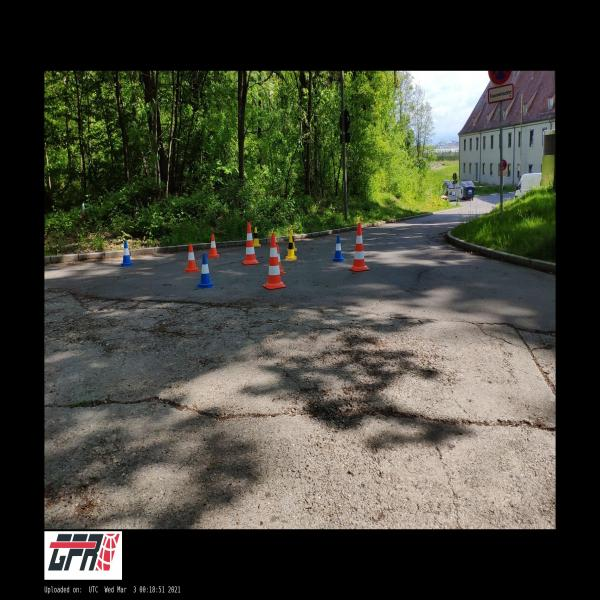blue_cone: (197, 254, 214, 288), (119, 241, 134, 266), (332, 235, 345, 262)
large_orange_cone: (262, 233, 286, 290), (349, 223, 370, 272), (242, 223, 259, 265)
orange_cone: (184, 244, 201, 272), (276, 244, 286, 275), (207, 234, 219, 258)
yellow_cone: (286, 236, 297, 260), (287, 230, 297, 251), (253, 228, 261, 246)
